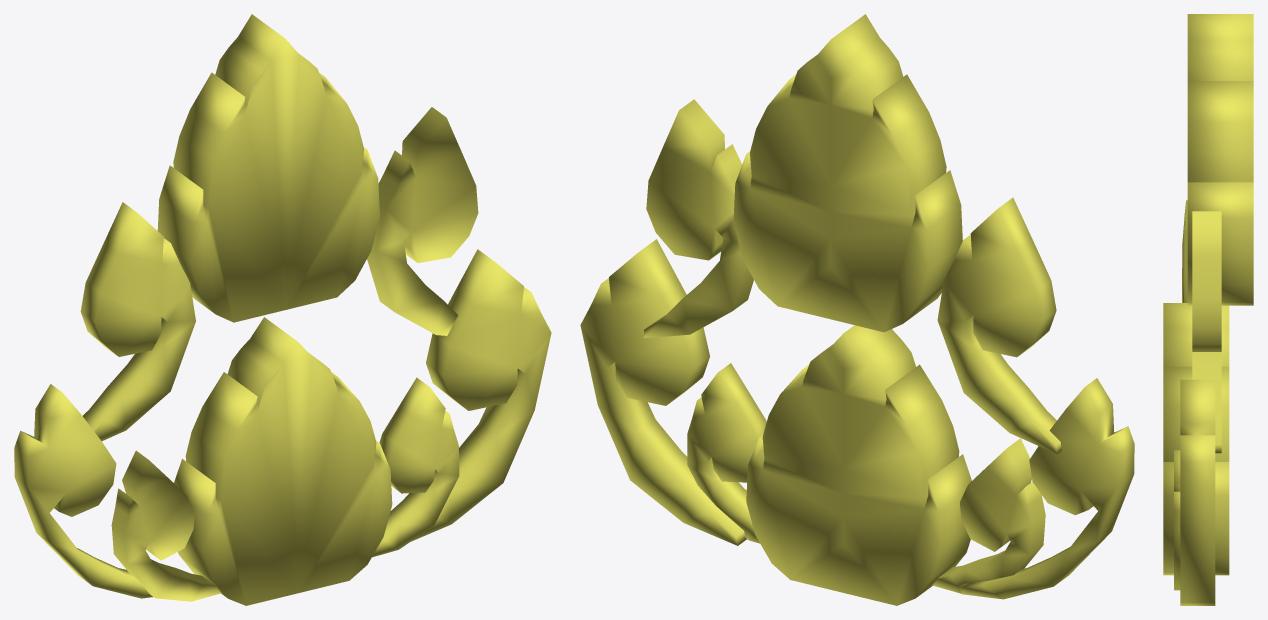
File: LaiThai_KrajangLek.glb
3 renders of one model, left to right at view 1: azimuth 30°, elevation 25°; view 2: azimuth 150°, elevation 25°; view 3: azimuth 270°, elevation 25°, orthographic. The views are drawn at different scales.
Parts seen in each view (by area): view 1: KrajangLek; view 2: KrajangLek; view 3: KrajangLek.
Boxes of the visible parts, bbox=[...] form: KrajangLek: bbox=[14, 14, 551, 605]; KrajangLek: bbox=[580, 14, 1134, 605]; KrajangLek: bbox=[1163, 14, 1253, 605].
Size of the model in its own units: 10.42 by 10.42 by 1.59.
